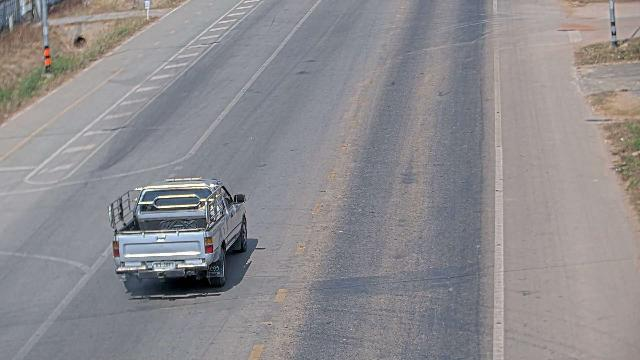pickup-truck: (107, 176, 248, 288)
